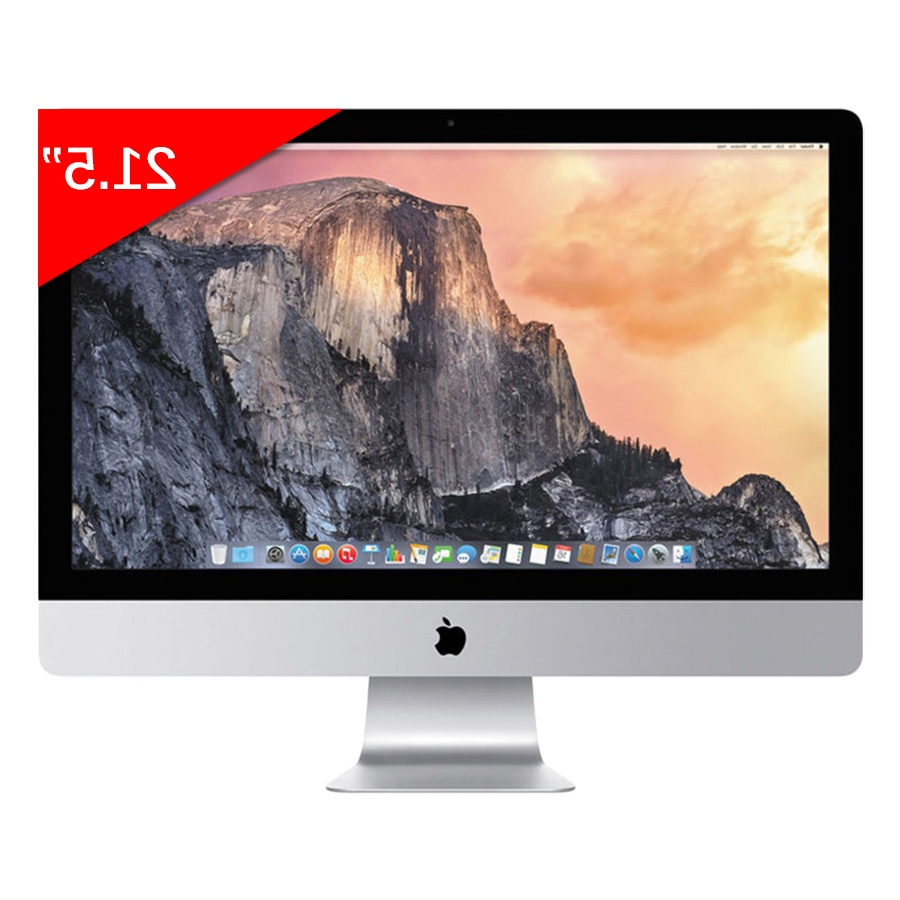Apple: (310, 544, 556, 717)
